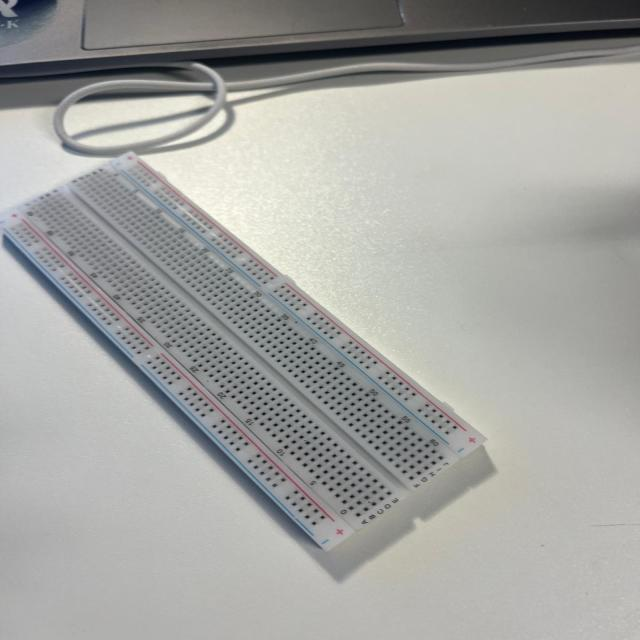BreadBoard: (11, 145, 495, 566)
